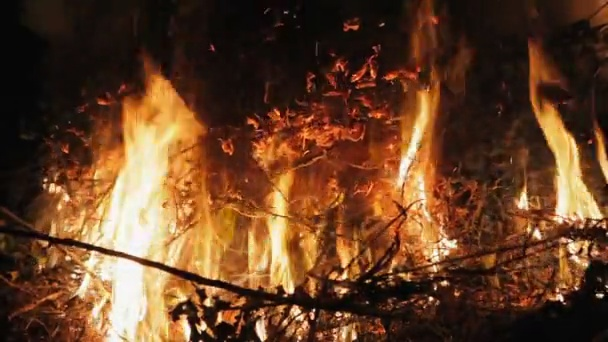fire: (43, 76, 212, 342), (515, 49, 606, 266), (394, 86, 446, 265), (260, 174, 295, 288)
